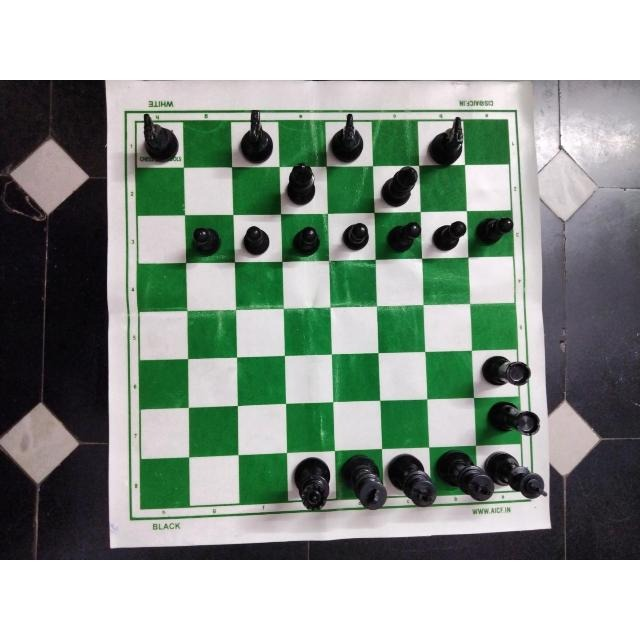black-bishop: (376, 161, 419, 210), (277, 160, 321, 207)
black-king: (483, 445, 548, 509), (386, 444, 442, 511), (337, 448, 389, 513), (438, 443, 496, 501)
black-knight: (231, 109, 276, 167), (325, 109, 372, 164), (424, 114, 468, 170), (135, 112, 182, 162)
black-pawn: (186, 216, 226, 260), (473, 210, 517, 248), (384, 218, 424, 258), (431, 214, 466, 258), (235, 220, 272, 259), (288, 221, 324, 259), (338, 219, 372, 252)
black-queen: (286, 454, 334, 514)
black-rook: (476, 397, 545, 441), (474, 350, 534, 388)
